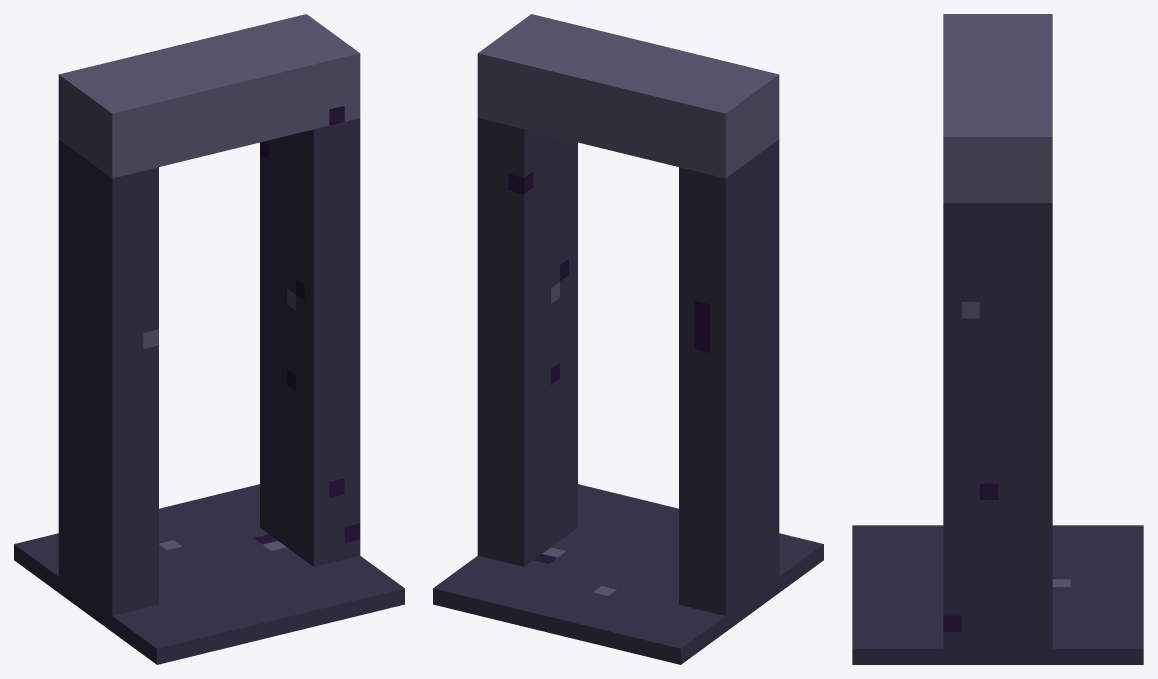
Rendered from door_frame_open.obj.
3 renders of one model, left to right at view 1: azimuth 30°, elevation 25°; view 2: azimuth 150°, elevation 25°; view 3: azimuth 270°, elevation 25°, orthographic.
Visible parts, largest first — view 1: door_frame_open; view 2: door_frame_open; view 3: door_frame_open.
Part boxes in pixels (<box>): door_frame_open: <box>14,14,404,664</box>; door_frame_open: <box>433,14,823,664</box>; door_frame_open: <box>852,14,1143,664</box>.
Size of the model in its own units: 1 by 2 by 1.
Materials: 1 (1 with a texture image).
